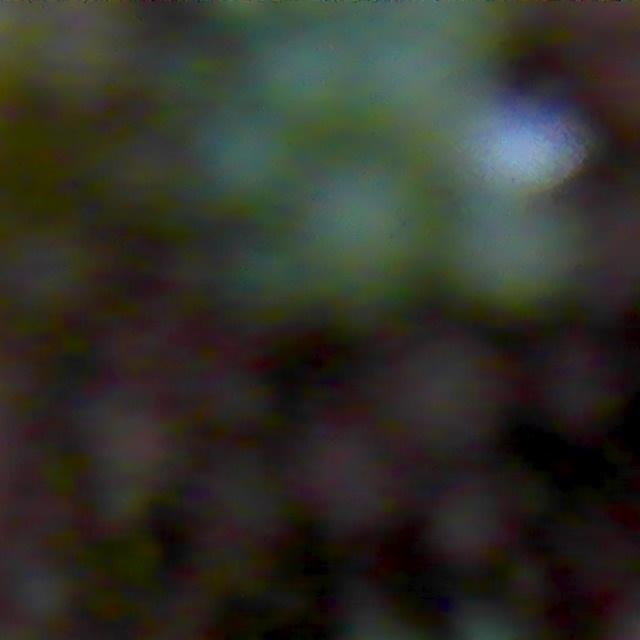SeaGrape: (426, 493, 502, 568)
